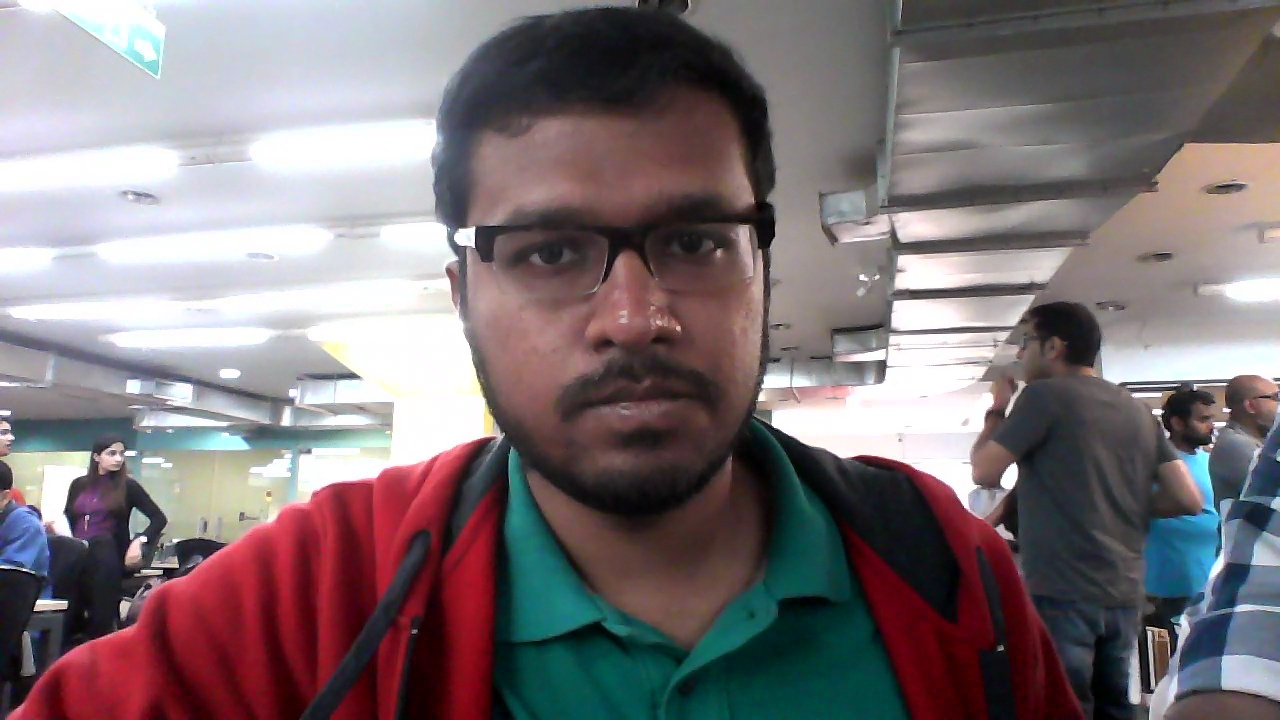open: (432, 8, 774, 477)
